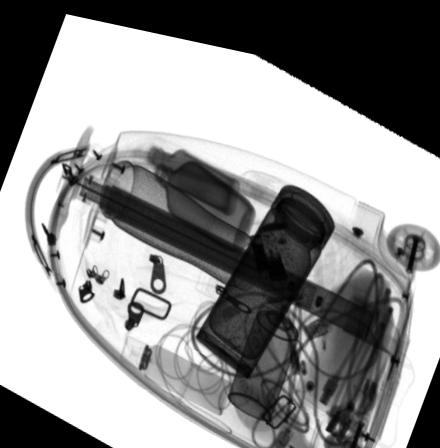Sprayer: (227, 275, 307, 409), (119, 329, 231, 405)
